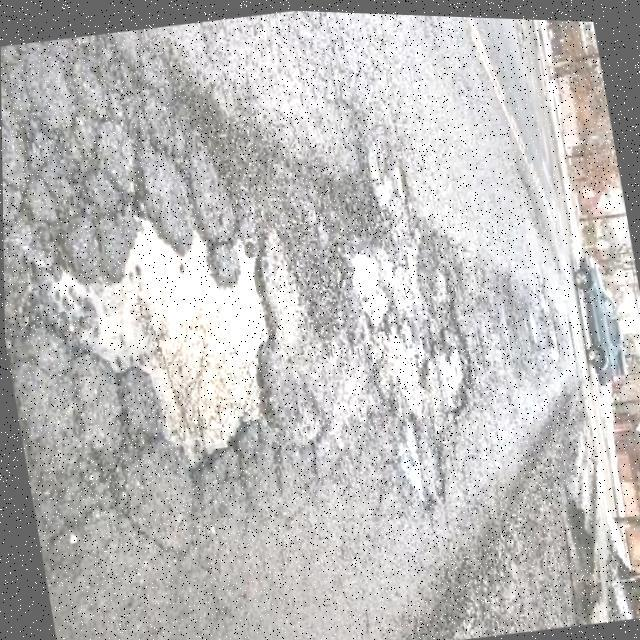pothole: (24, 180, 311, 506), (426, 319, 478, 419), (343, 243, 398, 334)
